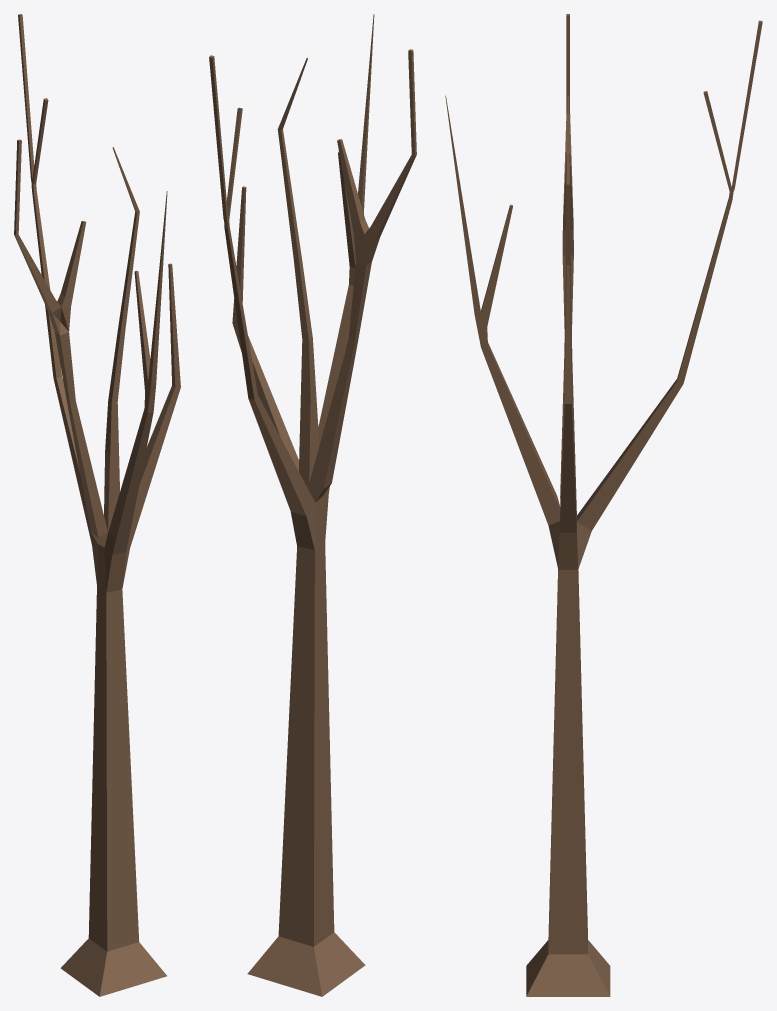
The model's file is tree 15.fbx.
The picture shows the model from 3 angles, left to right: view 1: azimuth 30°, elevation 25°; view 2: azimuth 150°, elevation 25°; view 3: azimuth 270°, elevation 25°; orthographic projection. The views are drawn at different scales.
Visible parts, largest first — view 1: Tree 15; view 2: Tree 15; view 3: Tree 15.
Part boxes in pixels (bbox=[...]): Tree 15: bbox=[14, 14, 180, 996]; Tree 15: bbox=[209, 14, 416, 996]; Tree 15: bbox=[445, 14, 762, 996].
Size of the model in its own units: 103 by 538 by 161.
1 material, 1 textured.
